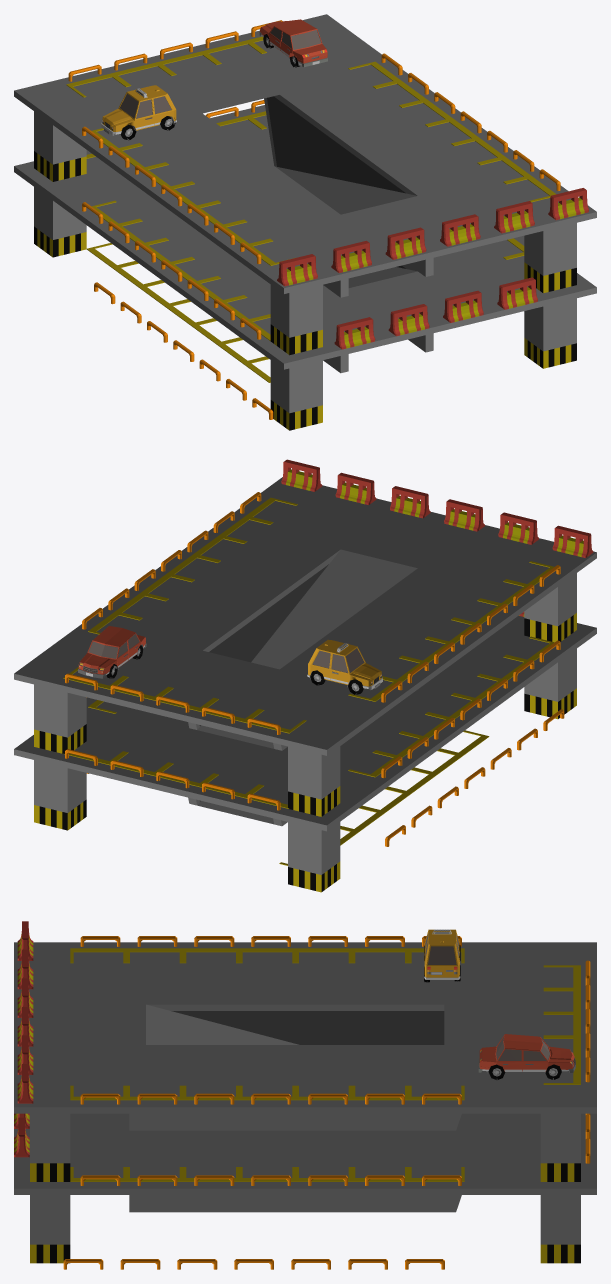
File: House 2.fbx
The picture shows the model from 3 angles, top to bottom: view 1: azimuth 30°, elevation 25°; view 2: azimuth 150°, elevation 25°; view 3: azimuth 270°, elevation 25°; orthographic projection. The views are drawn at different scales.
Visible parts, largest first — view 1: House 2; view 2: House 2; view 3: House 2.
Boxes of the visible parts, box(x1,y1,x2,y2) form: House 2: box(14, 14, 596, 430); House 2: box(14, 459, 596, 892); House 2: box(14, 921, 596, 1269).
Size of the model in its own units: 13.72 by 7.92 by 20.51.
